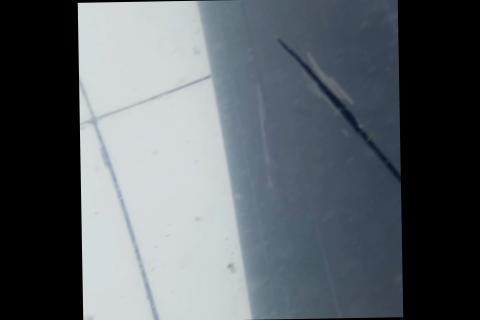keretakan: (271, 32, 401, 210)
